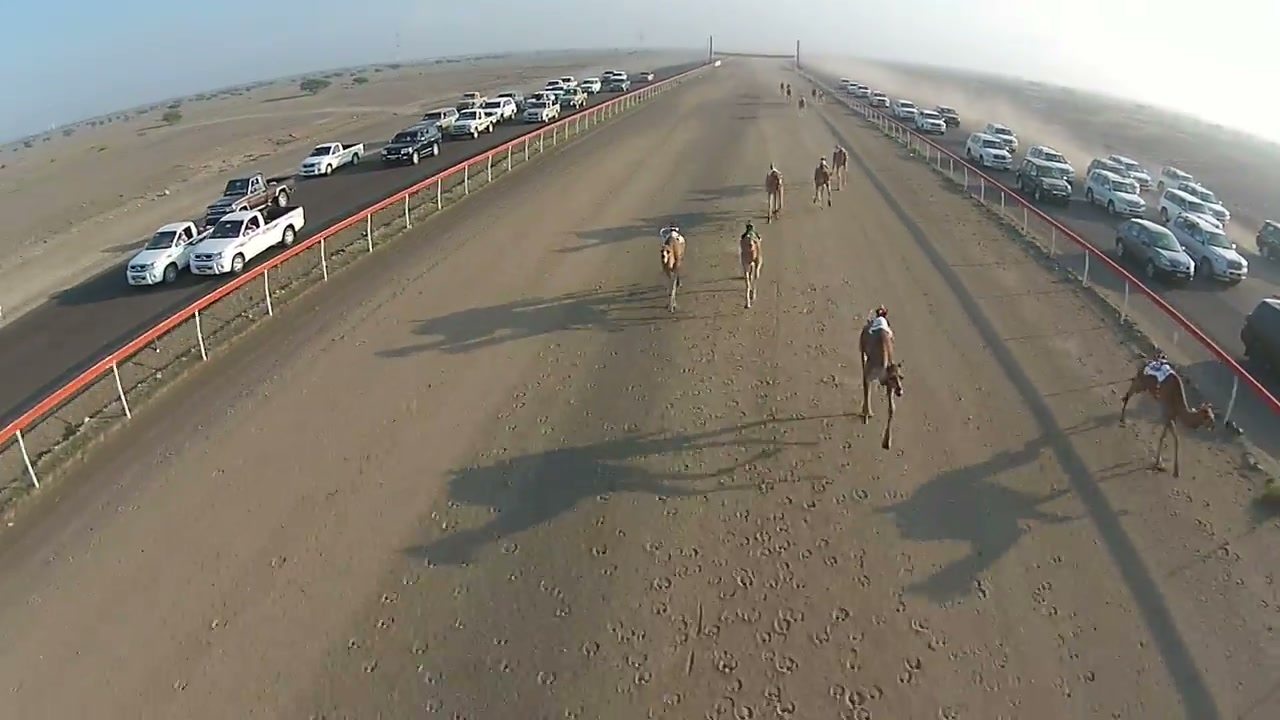animal_foot_print: (575, 326, 939, 719)
